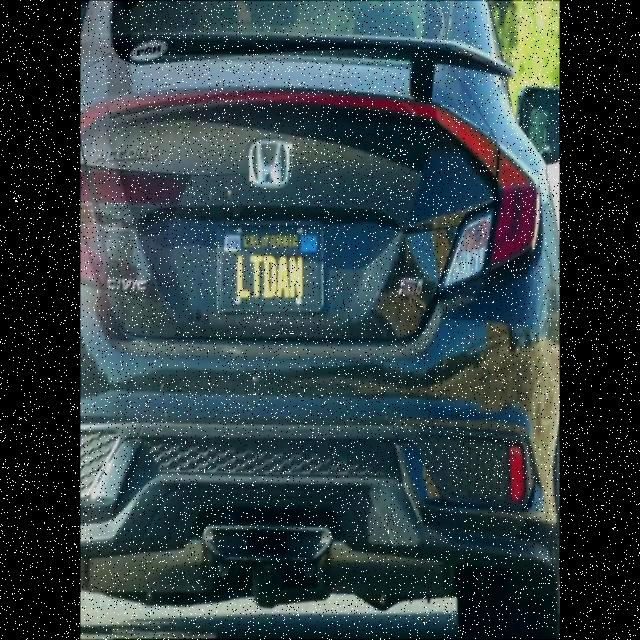licenseplate: (218, 226, 328, 310)
